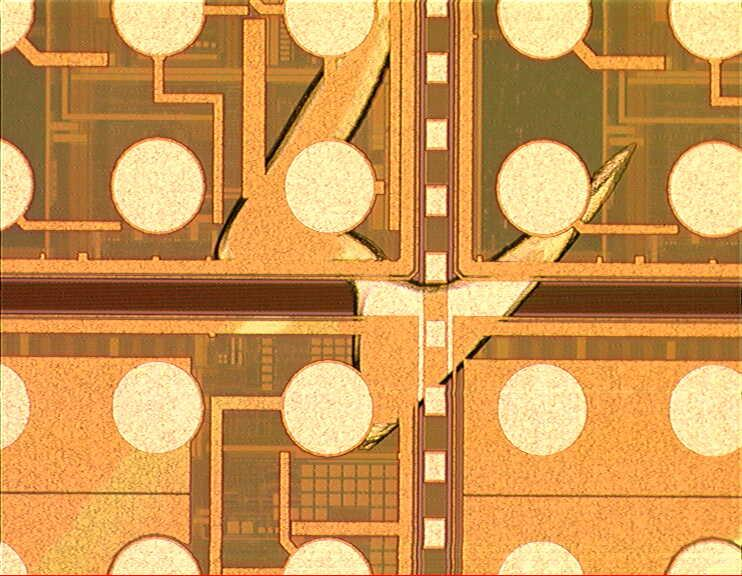COATING BAD: (212, 1, 639, 452)
